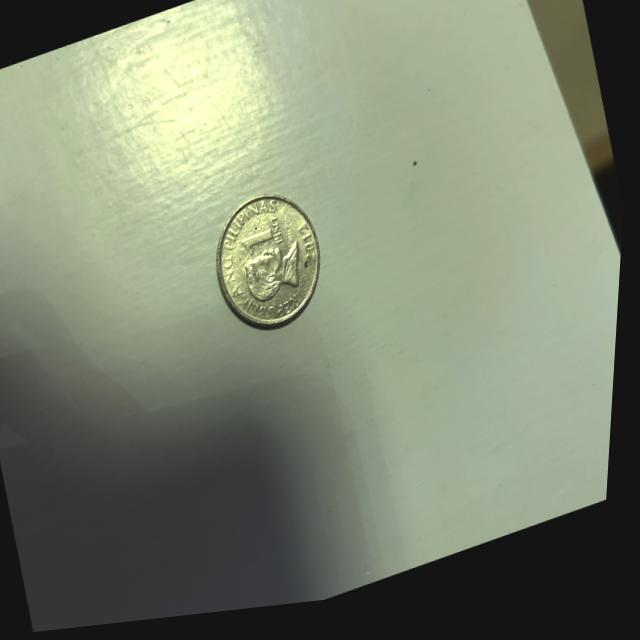1_Old_Front: (239, 222, 289, 271)
